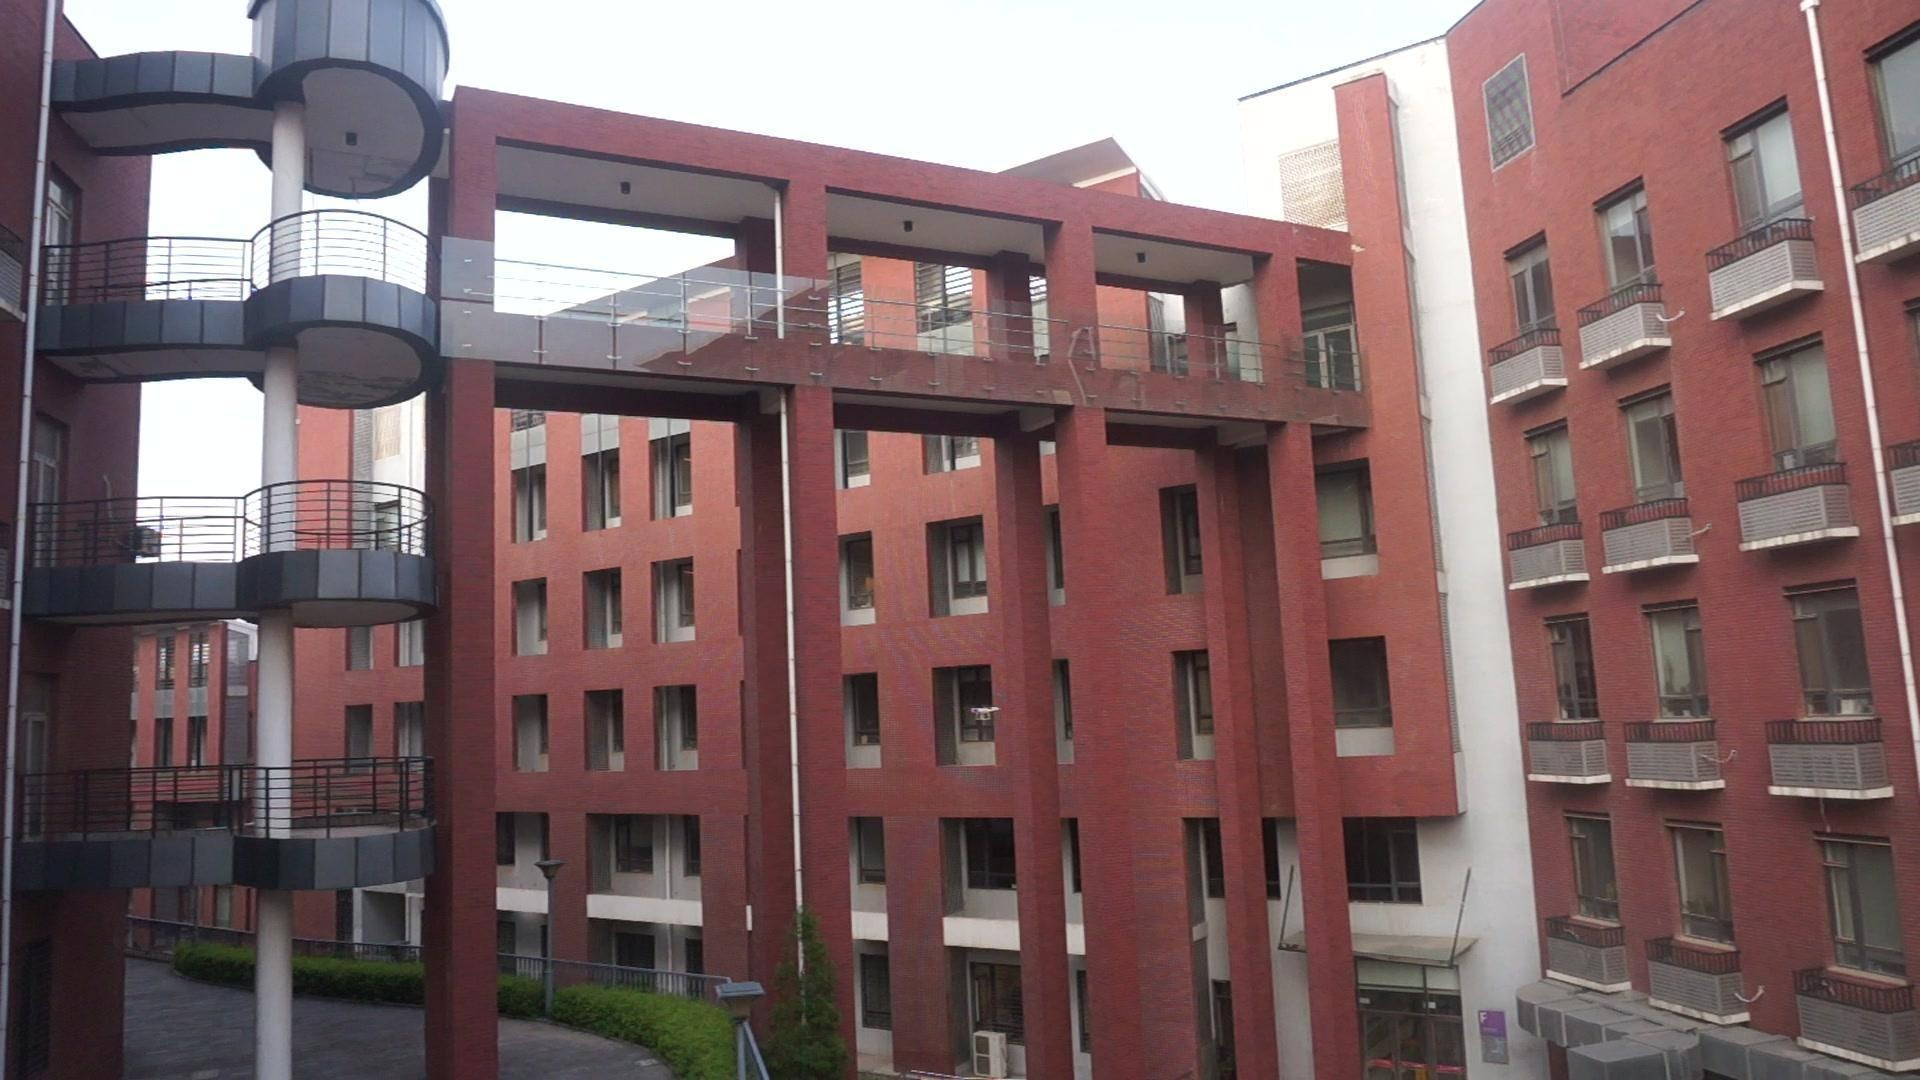UAV: (971, 705, 1001, 721)
